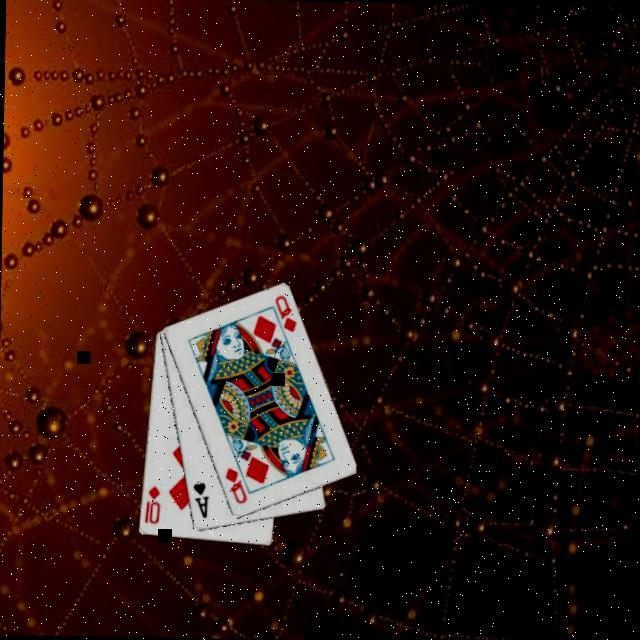10D: (142, 483, 164, 528)
AS: (191, 480, 214, 522)
QD: (223, 465, 252, 507), (273, 294, 301, 336)
